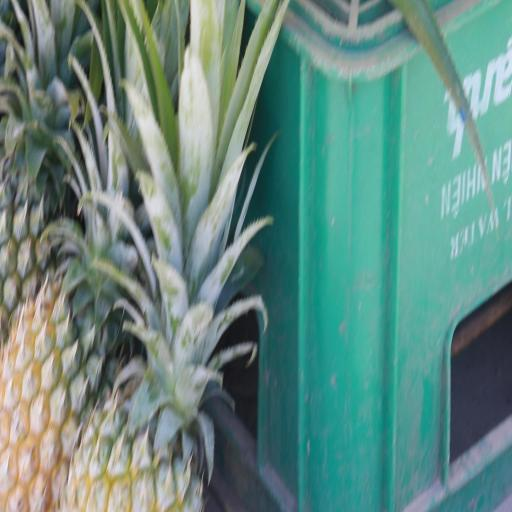Pineapple - v8 v1: (0, 67, 125, 512), (57, 153, 207, 512)
